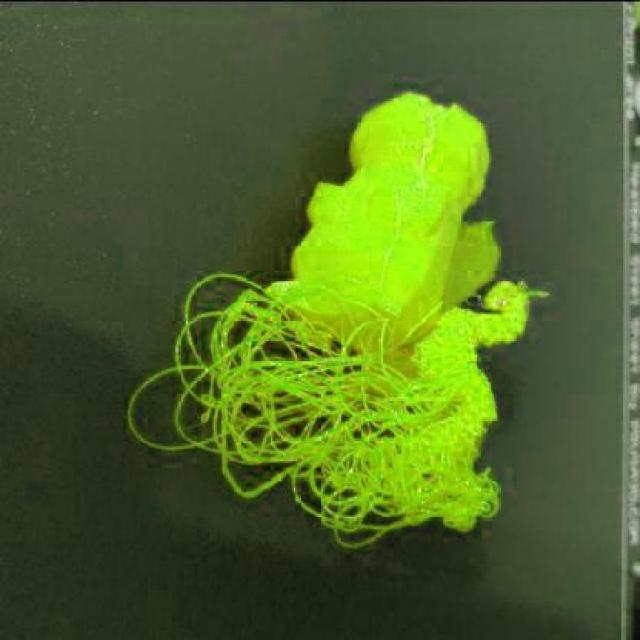spaghetti: (127, 272, 552, 549)
